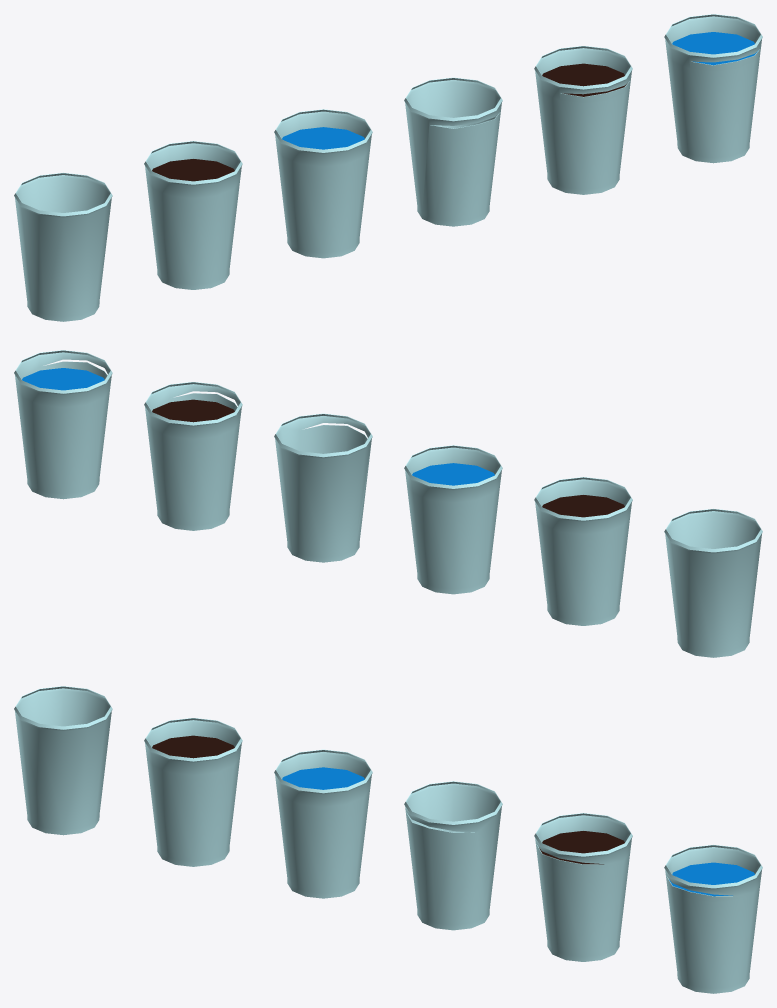
File: Cups.fbx
3 renders of one model, top to bottom at view 1: azimuth 30°, elevation 25°; view 2: azimuth 150°, elevation 25°; view 3: azimuth 330°, elevation 25°, orthographic.
Parts seen in each view (by area): view 1: CutCup, Cup, CupWater, CutCupWater, CupCoffee, CutCupCoffee; view 2: Cup, CupWater, CupCoffee, CutCup, CutCupWater, CutCupCoffee; view 3: CutCup, Cup, CutCupCoffee, CupWater, CutCupWater, CupCoffee.
Part boxes in pixels (x1,y1,x2,y2): CutCup: (404, 77, 502, 226); Cup: (14, 172, 112, 321); CupWater: (274, 109, 372, 258); CutCupWater: (664, 14, 762, 163); CupCoffee: (144, 141, 242, 289); CutCupCoffee: (534, 46, 632, 194); Cup: (664, 508, 762, 657); CupWater: (404, 445, 502, 594); CupCoffee: (534, 477, 632, 625); CutCup: (274, 413, 372, 562); CutCupWater: (14, 350, 112, 499); CutCupCoffee: (144, 382, 242, 530); CutCup: (404, 781, 502, 930); Cup: (14, 686, 112, 835); CutCupCoffee: (534, 813, 632, 961); CupWater: (274, 749, 372, 898); CutCupWater: (664, 844, 762, 993); CupCoffee: (144, 718, 242, 866).
Size of the model in its own units: 1697 by 251 by 197.
